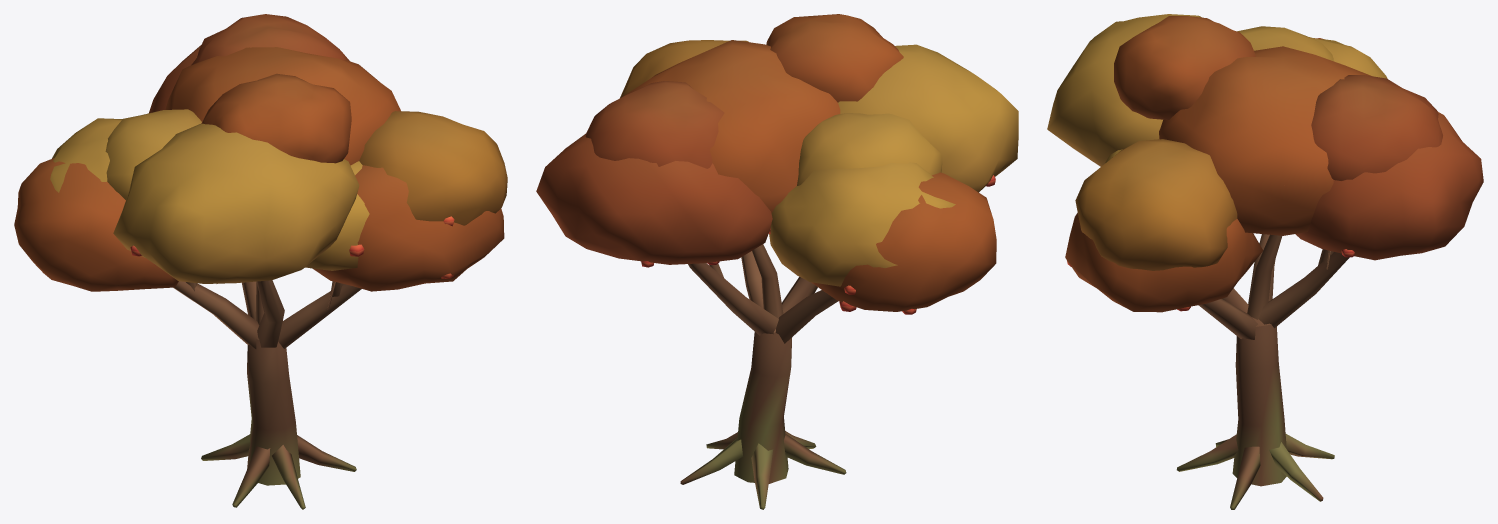
The model's file is apple_tree_mature_autumn.glb.
3 views of the same model, side by side, from view 1: azimuth 30°, elevation 25°; view 2: azimuth 150°, elevation 25°; view 3: azimuth 270°, elevation 25° (orthographic). The views are drawn at different scales.
Visible parts, largest first — view 1: orchard_apple_tree_mature_autumn_Canopy, orchard_apple_tree_mature_autumn_Trunk; view 2: orchard_apple_tree_mature_autumn_Canopy, orchard_apple_tree_mature_autumn_Trunk; view 3: orchard_apple_tree_mature_autumn_Canopy, orchard_apple_tree_mature_autumn_Trunk.
Part boxes in pixels (x1=…): orchard_apple_tree_mature_autumn_Canopy: x1=14, y1=14, x2=507, y2=291; orchard_apple_tree_mature_autumn_Trunk: x1=173, y1=280, x2=361, y2=509; orchard_apple_tree_mature_autumn_Canopy: x1=536, y1=14, x2=1018, y2=311; orchard_apple_tree_mature_autumn_Trunk: x1=680, y1=244, x2=846, y2=509; orchard_apple_tree_mature_autumn_Canopy: x1=1047, y1=14, x2=1483, y2=312; orchard_apple_tree_mature_autumn_Trunk: x1=1176, y1=234, x2=1349, y2=509.
Bounding box in the file's own units: 4.72 × 4.68 × 4.24.
